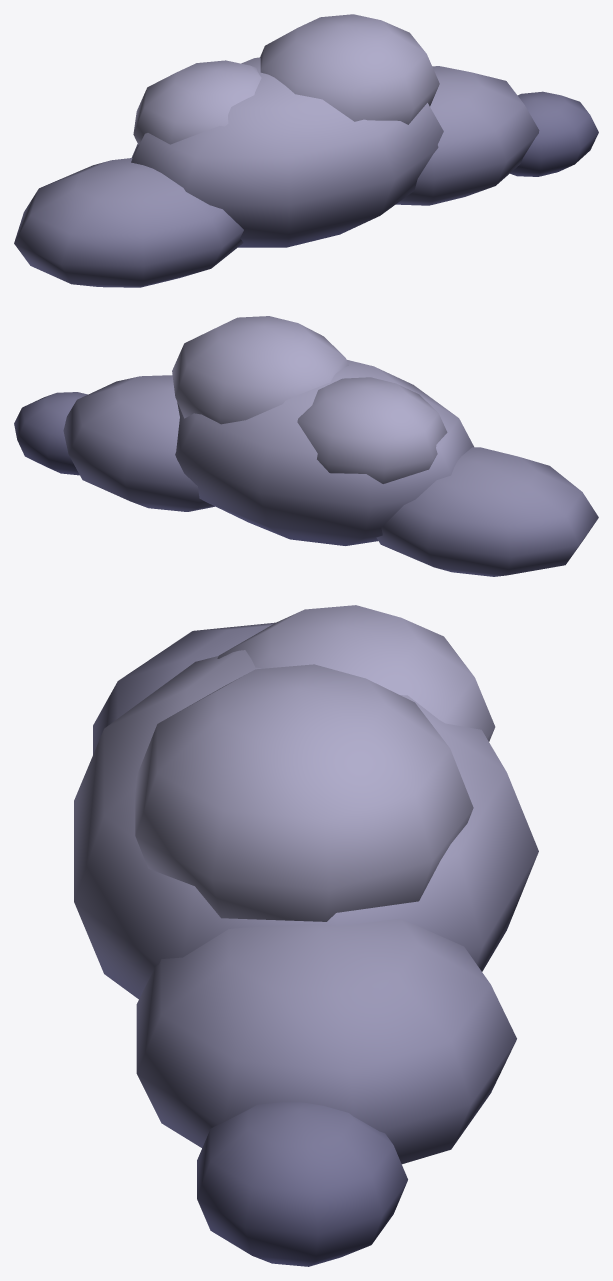
Rendered from cloud_a.glb.
The picture shows the model from 3 angles, top to bottom: view 1: azimuth 30°, elevation 25°; view 2: azimuth 150°, elevation 25°; view 3: azimuth 270°, elevation 25°; orthographic projection. The views are drawn at different scales.
Parts seen in each view (by area): view 1: cloud_a; view 2: cloud_a; view 3: cloud_a.
Part boxes in pixels (bbox=[...]): cloud_a: bbox=[14, 14, 598, 287]; cloud_a: bbox=[14, 316, 598, 576]; cloud_a: bbox=[74, 605, 538, 1266].
Size of the model in its own units: 5.97 by 1.9 by 2.13.
